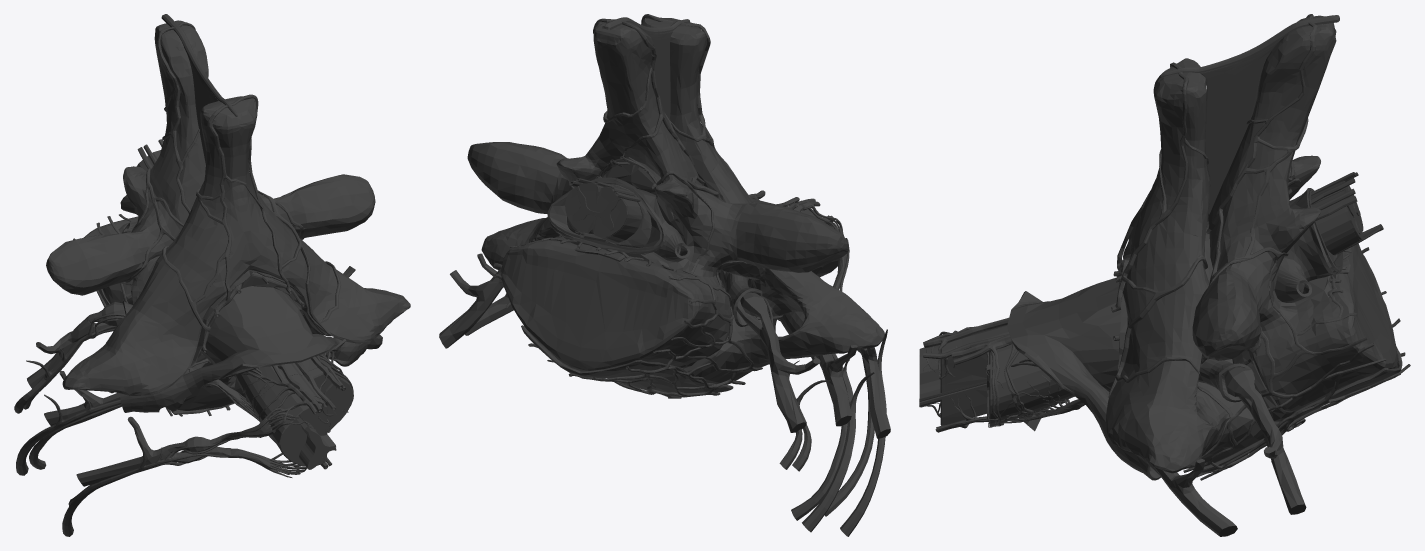
The model's file is sharedassets104.glb.
3 renders of one model, left to right at view 1: azimuth 30°, elevation 25°; view 2: azimuth 150°, elevation 25°; view 3: azimuth 270°, elevation 25°, orthographic. The views are drawn at different scales.
Parts seen in each view (by area): view 1: 0014_C07 vertebra_vertebral_column_xs_304316, 0005_T01 vertebra_vertebral_column_xs_304361, 0000_Dura mater_vertebral_column_xs_304334, 0029_Posterior external plexus_vertebral_colu, 0009_White matter_vertebral_column_xs_304344, 0026_Spinal nerves_vertebral_column_xs_304342, 0010_Posterior intercostal arteries_vertebral, 0007_Ventral roots_vertebral_column_xs_304343, 0038_Pia mater_vertebral_column_xs_304340, 0019_Posterior intercostal veins_vertebral_co, 0041_Dorsal roots_vertebral_column_xs_304333, 0011_Dorsal root ganglia_vertebral_column_xs_ (+12 smaller); view 2: 0005_T01 vertebra_vertebral_column_xs_304361, 0014_C07 vertebra_vertebral_column_xs_304316, 0026_Spinal nerves_vertebral_column_xs_304342, 0010_Posterior intercostal arteries_vertebral, 0004_Anterior external plexus_vertebral_colum, 0029_Posterior external plexus_vertebral_colu, 0000_Dura mater_vertebral_column_xs_304334, 0018_Anterior longitudinal ligament_vertebral, 0009_White matter_vertebral_column_xs_304344, 0019_Posterior intercostal veins_vertebral_co, 0031_Extradural fat _in epidural space__verte, 0030_Arachnoid mater_vertebral_column_xs_3043 (+5 smaller); view 3: 0005_T01 vertebra_vertebral_column_xs_304361, 0014_C07 vertebra_vertebral_column_xs_304316, 0000_Dura mater_vertebral_column_xs_304334, 0029_Posterior external plexus_vertebral_colu, 0032_Interspinal ligament_vertebral_column_xs, 0026_Spinal nerves_vertebral_column_xs_304342, 0038_Pia mater_vertebral_column_xs_304340, 0004_Anterior external plexus_vertebral_colum, 0009_White matter_vertebral_column_xs_304344, 0003_Posterior spinal arteries_vertebral_colu, 0018_Anterior longitudinal ligament_vertebral, 0015_Posterior median sulcus_vertebral_column (+14 smaller).
Part boxes in pixels (box(x1,y1,x2,y2)): 0014_C07 vertebra_vertebral_column_xs_304316: box(62, 96, 410, 411); 0005_T01 vertebra_vertebral_column_xs_304361: box(46, 20, 375, 305); 0000_Dura mater_vertebral_column_xs_304334: box(119, 196, 367, 412); 0029_Posterior external plexus_vertebral_colu: box(125, 22, 341, 336); 0009_White matter_vertebral_column_xs_304344: box(137, 150, 353, 466); 0026_Spinal nerves_vertebral_column_xs_304342: box(27, 266, 382, 486); 0010_Posterior intercostal arteries_vertebral: box(14, 332, 174, 536); 0007_Ventral roots_vertebral_column_xs_304343: box(102, 322, 336, 477); 0038_Pia mater_vertebral_column_xs_304340: box(139, 152, 337, 414); 0019_Posterior intercostal veins_vertebral_co: box(23, 337, 180, 506); 0041_Dorsal roots_vertebral_column_xs_304333: box(215, 351, 333, 442); 0011_Dorsal root ganglia_vertebral_column_xs_: box(93, 302, 216, 453); 0005_T01 vertebra_vertebral_column_xs_304361: box(467, 21, 849, 371); 0014_C07 vertebra_vertebral_column_xs_304316: box(481, 17, 884, 384); 0026_Spinal nerves_vertebral_column_xs_304342: box(439, 253, 890, 438); 0010_Posterior intercostal arteries_vertebral: box(788, 329, 887, 536); 0004_Anterior external plexus_vertebral_colum: box(494, 234, 782, 398); 0029_Posterior external plexus_vertebral_colu: box(552, 14, 755, 271); 0000_Dura mater_vertebral_column_xs_304334: box(548, 177, 816, 359); 0018_Anterior longitudinal ligament_vertebral: box(521, 325, 733, 397); 0009_White matter_vertebral_column_xs_304344: box(565, 183, 838, 277); 0019_Posterior intercostal veins_vertebral_co: box(779, 350, 874, 520); 0031_Extradural fat _in epidural space__verte: box(551, 164, 693, 272); 0030_Arachnoid mater_vertebral_column_xs_3043: box(547, 180, 680, 254); 0005_T01 vertebra_vertebral_column_xs_304361: box(1192, 15, 1396, 411); 0014_C07 vertebra_vertebral_column_xs_304316: box(1105, 58, 1280, 473); 0000_Dura mater_vertebral_column_xs_304334: box(1007, 188, 1343, 480); 0029_Posterior external plexus_vertebral_colu: box(1108, 14, 1317, 397); 0032_Interspinal ligament_vertebral_column_xs: box(1199, 40, 1280, 214); 0026_Spinal nerves_vertebral_column_xs_304342: box(1150, 395, 1306, 536); 0038_Pia mater_vertebral_column_xs_304340: box(998, 182, 1361, 431); 0004_Anterior external plexus_vertebral_colum: box(1183, 247, 1410, 480); 0009_White matter_vertebral_column_xs_304344: box(940, 181, 1363, 426); 0003_Posterior spinal arteries_vertebral_colu: box(923, 172, 1355, 358); 0018_Anterior longitudinal ligament_vertebral: box(1201, 346, 1402, 473); 0015_Posterior median sulcus_vertebral_column: box(940, 189, 1348, 392).
Size of the model in its own units: 0.2998 by 0.3632 by 0.2936.
Materials: 1 (1 with a texture image).
